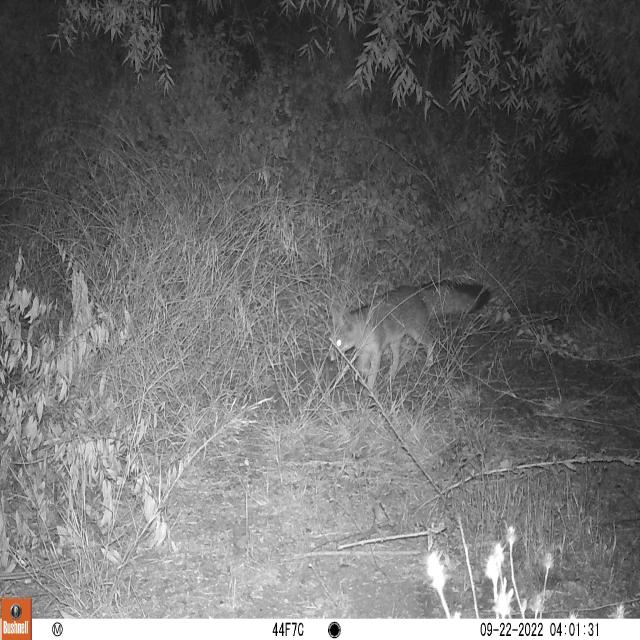Fox: (328, 270, 492, 390)
